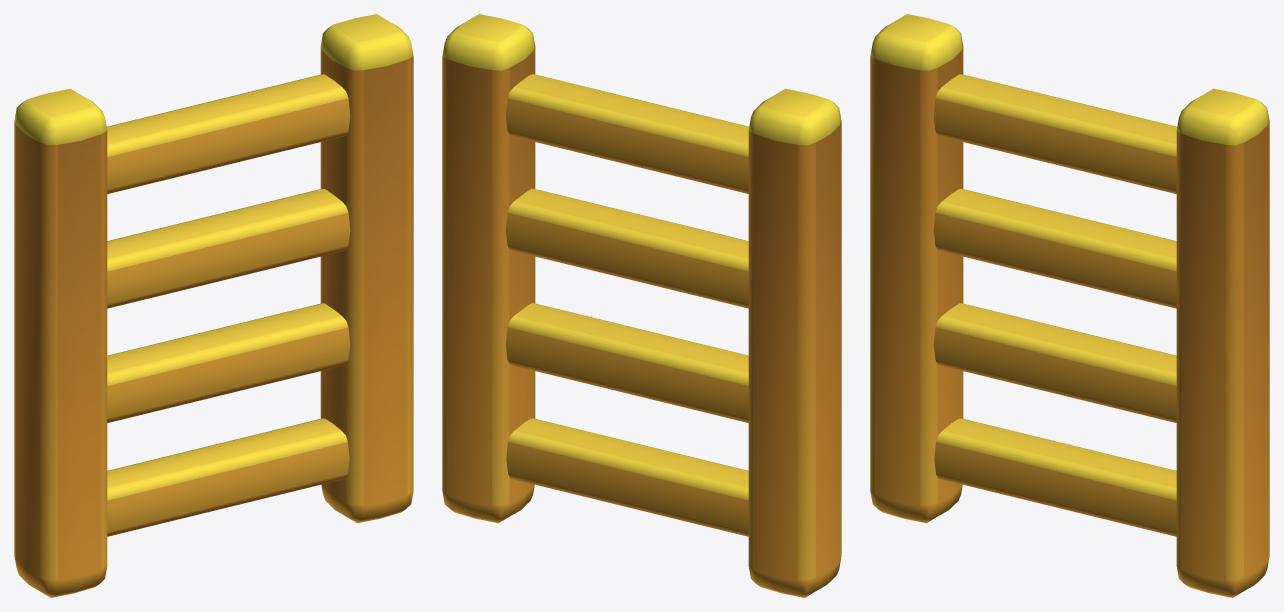
File: Gold_Ladder.fbx
3 views of the same model, side by side, from view 1: azimuth 30°, elevation 25°; view 2: azimuth 150°, elevation 25°; view 3: azimuth 330°, elevation 25° (orthographic).
Parts seen in each view (by area): view 1: Gold_Ladder_LOD0; view 2: Gold_Ladder_LOD0; view 3: Gold_Ladder_LOD0.
Boxes of the visible parts, x1,y1,x2,y2 form: Gold_Ladder_LOD0: (14,14,413,597); Gold_Ladder_LOD0: (442,14,841,597); Gold_Ladder_LOD0: (870,14,1269,597).
Size of what is drawn, in the model's own units: 0.8613 by 1.05 by 0.1617.
